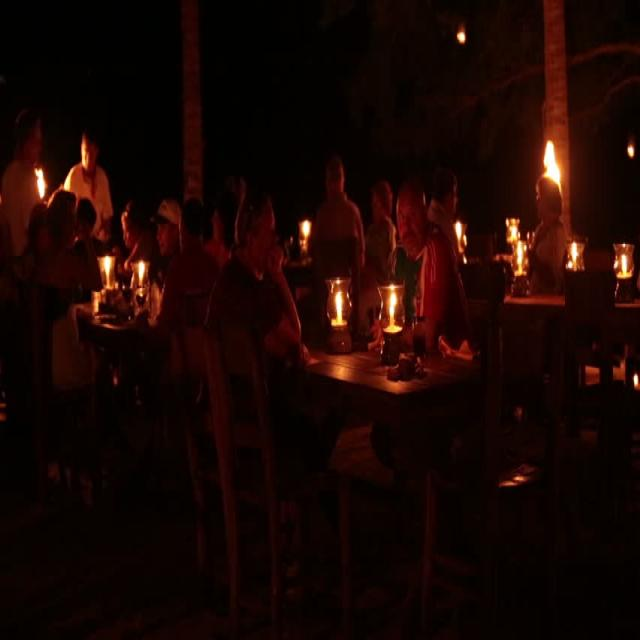People: (222, 175, 292, 479), (389, 179, 480, 381), (148, 174, 204, 398), (532, 163, 584, 354), (68, 111, 120, 287), (27, 106, 67, 312)
